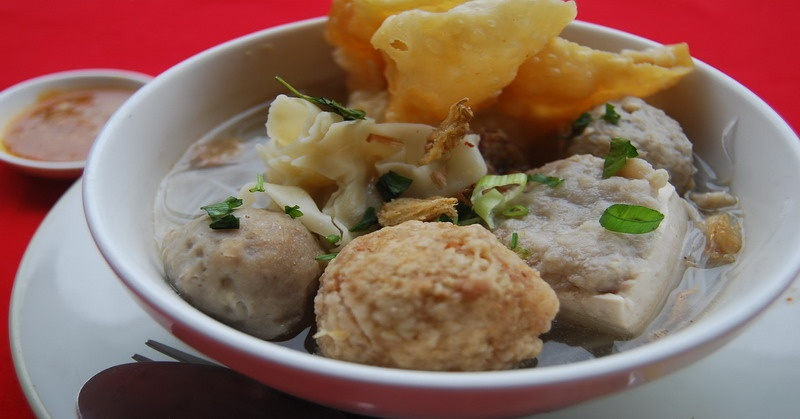bakso_malang: (156, 1, 752, 373)
